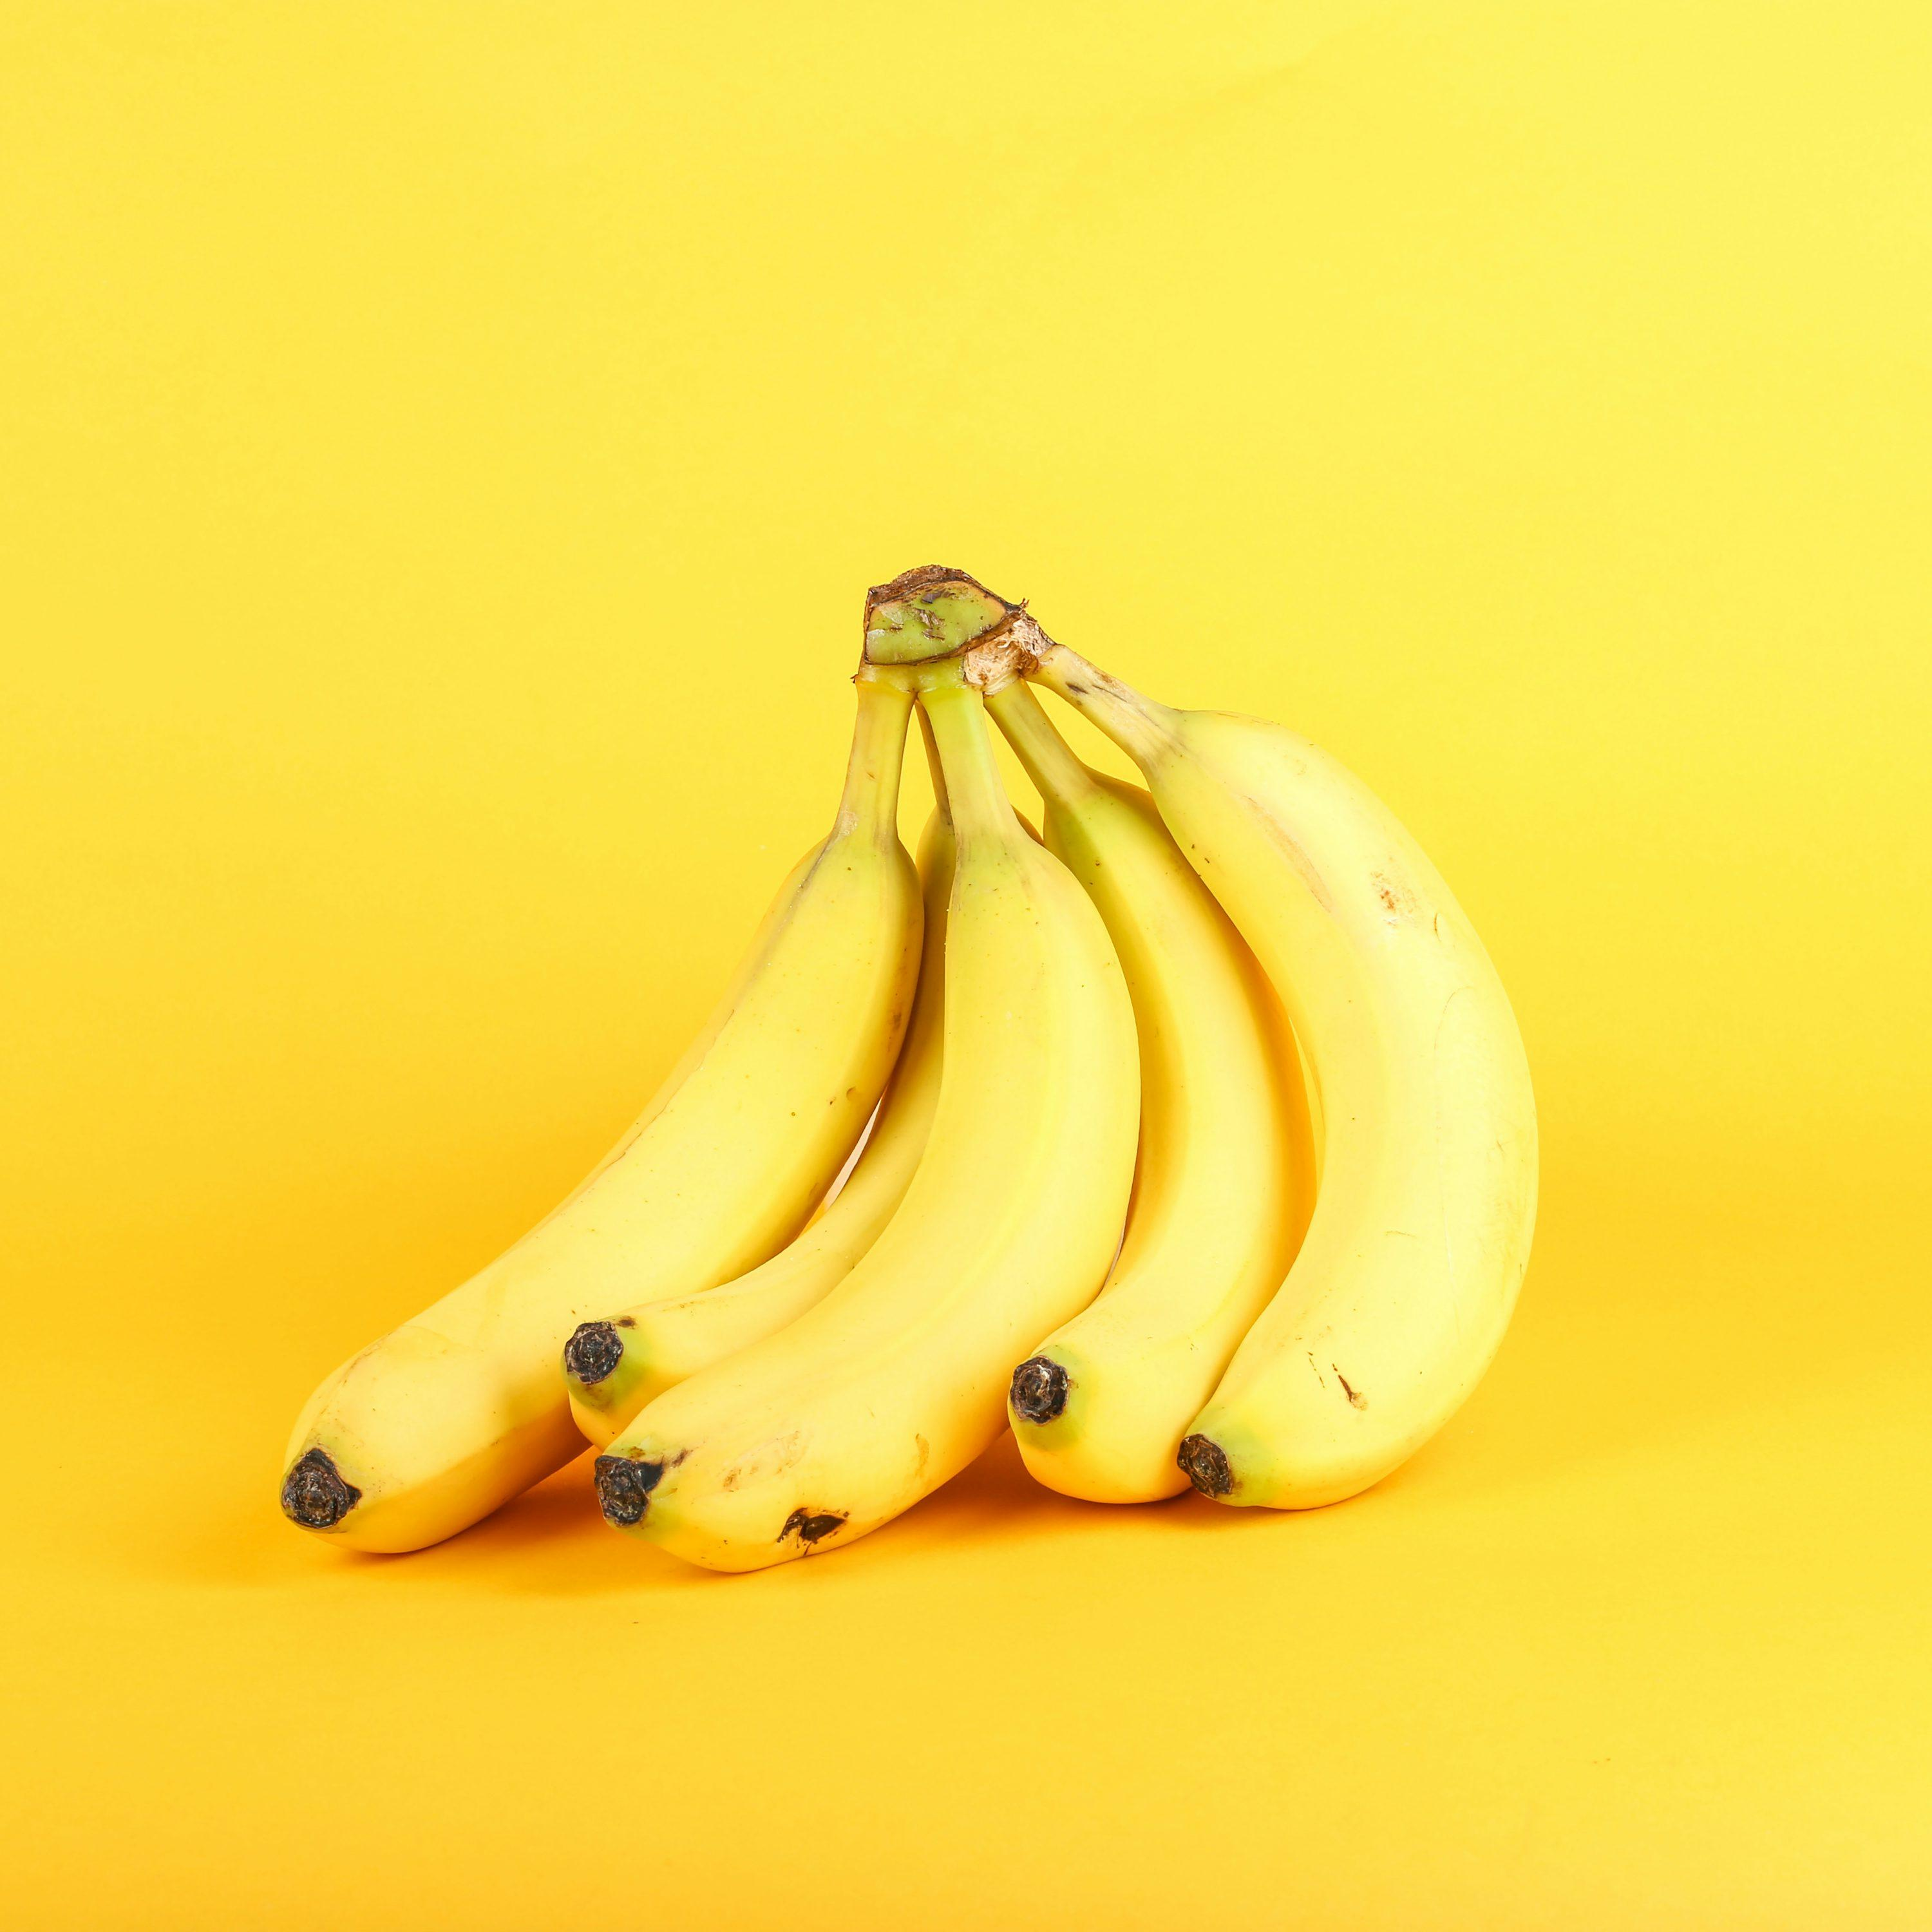non-mango: (225, 522, 1658, 1757)
